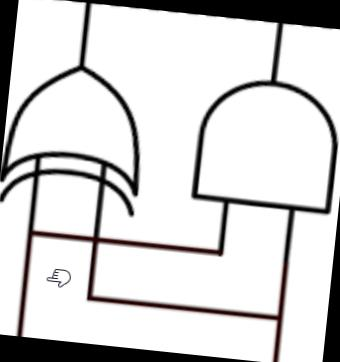and: (178, 64, 340, 225)
xor: (0, 49, 157, 222)
